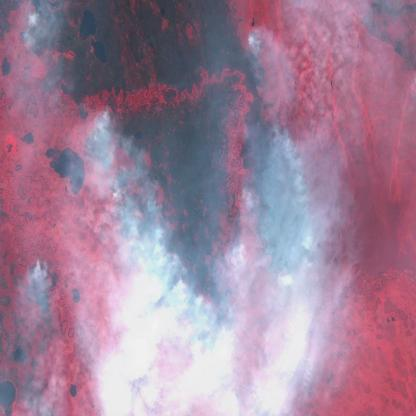fire: (28, 0, 320, 365)
